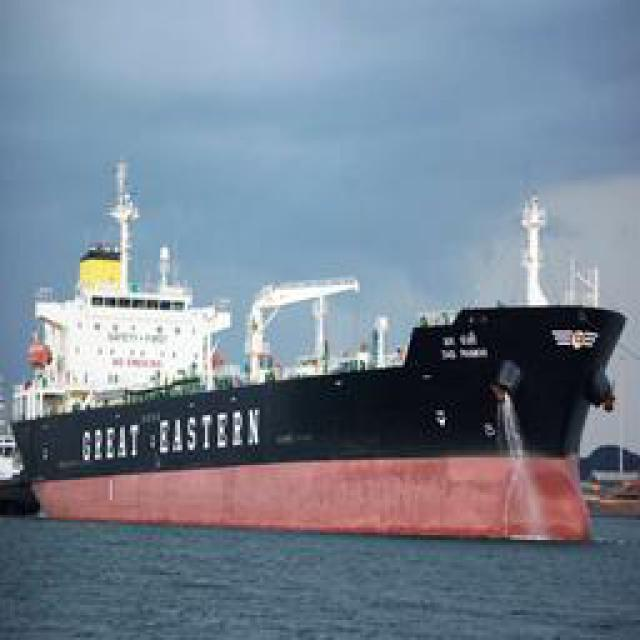Ship: (25, 257, 618, 527)
